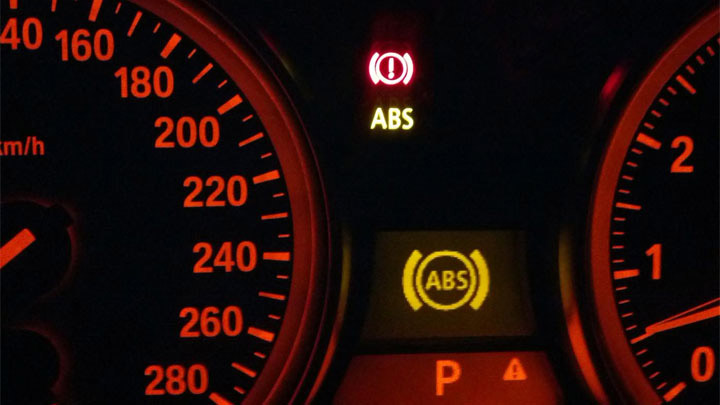ABS: (394, 241, 496, 319)
